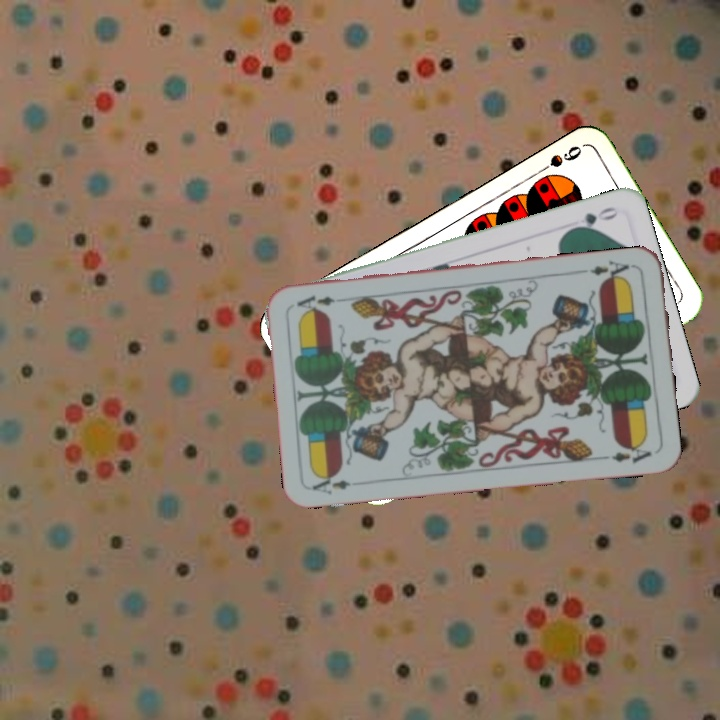EA: (586, 256, 637, 284), (309, 470, 353, 497)
GO: (565, 203, 622, 234)
S9: (531, 141, 585, 178)
